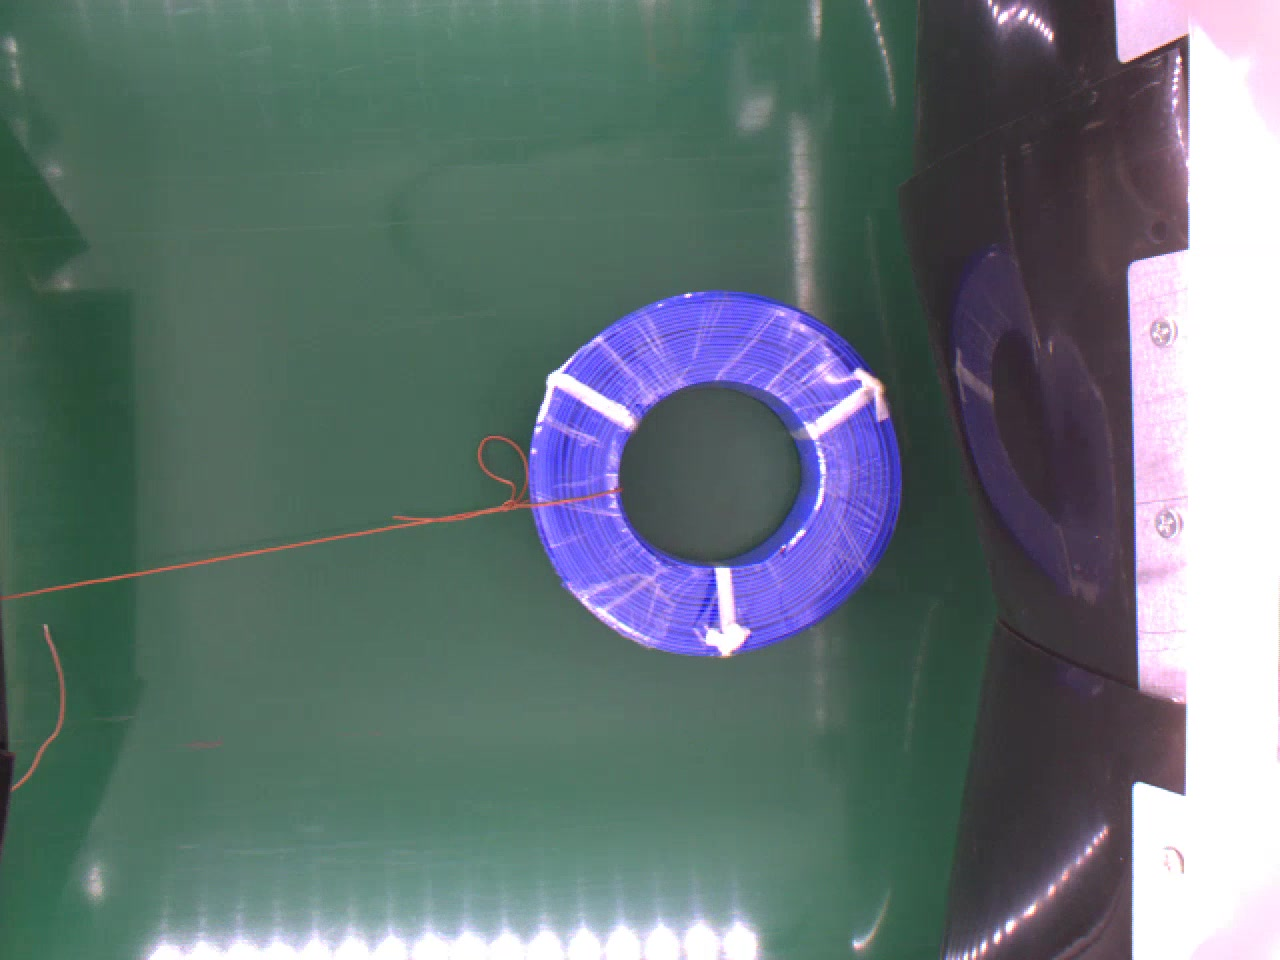blue: (523, 292, 906, 655)
